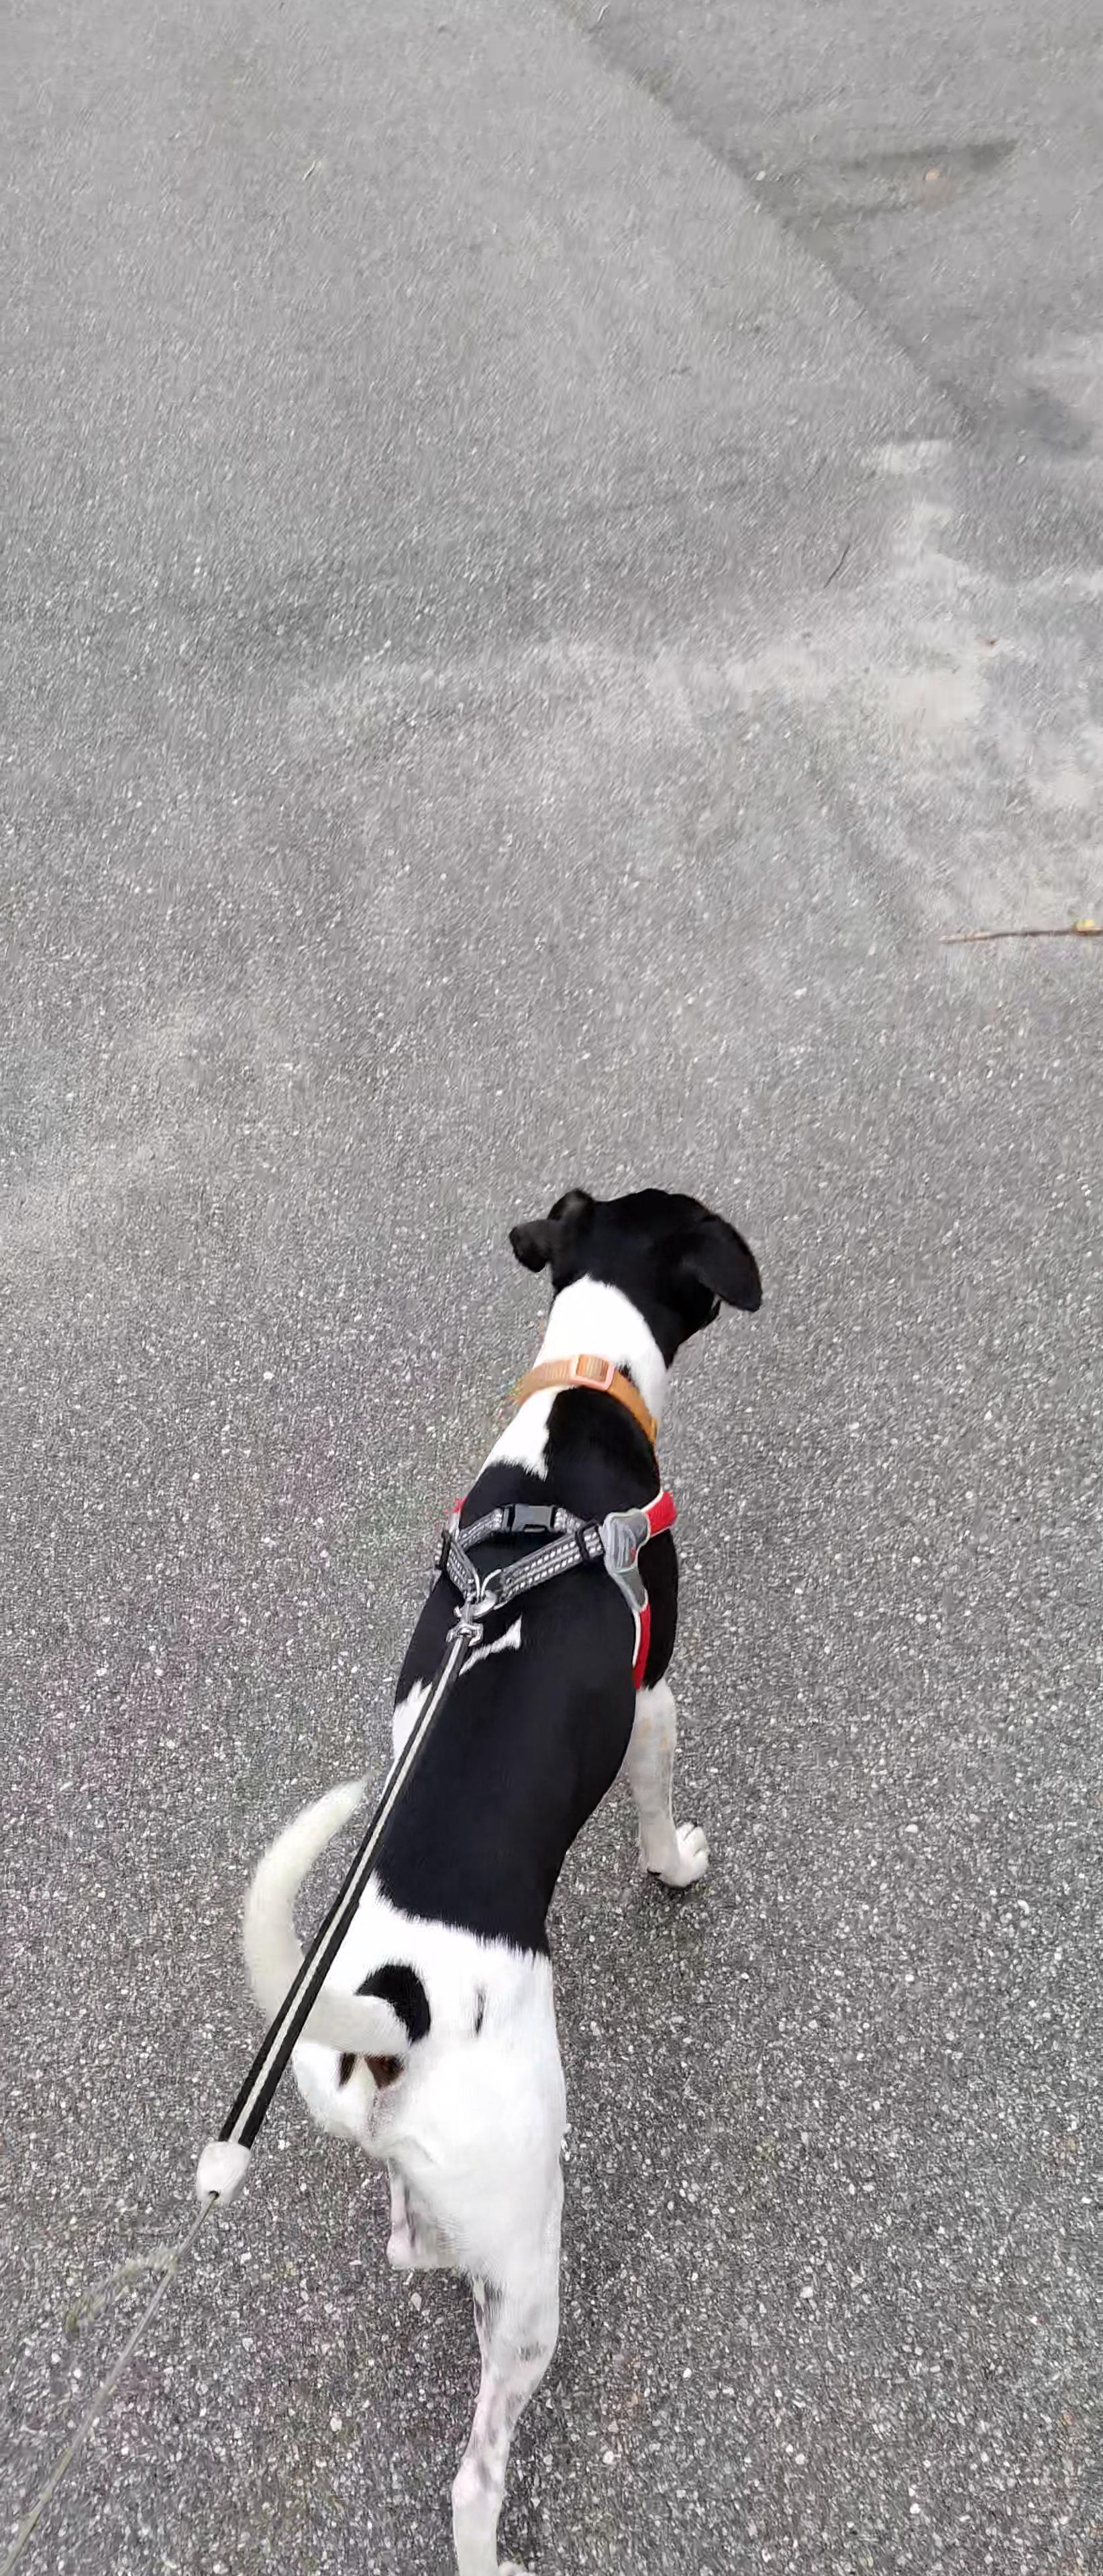Dog: (187, 1166, 781, 2576)
